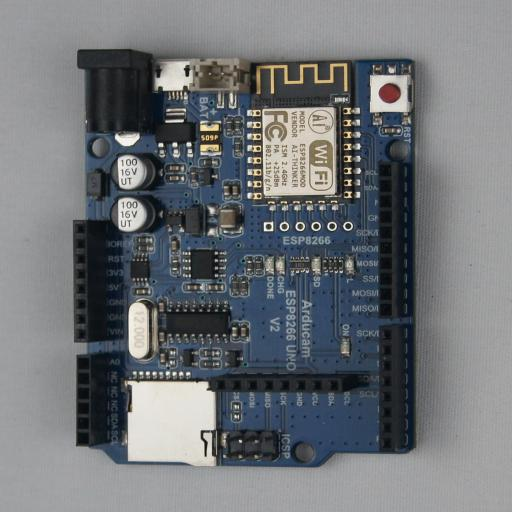Arduino Uno Camera Shield: (73, 49, 434, 467)
